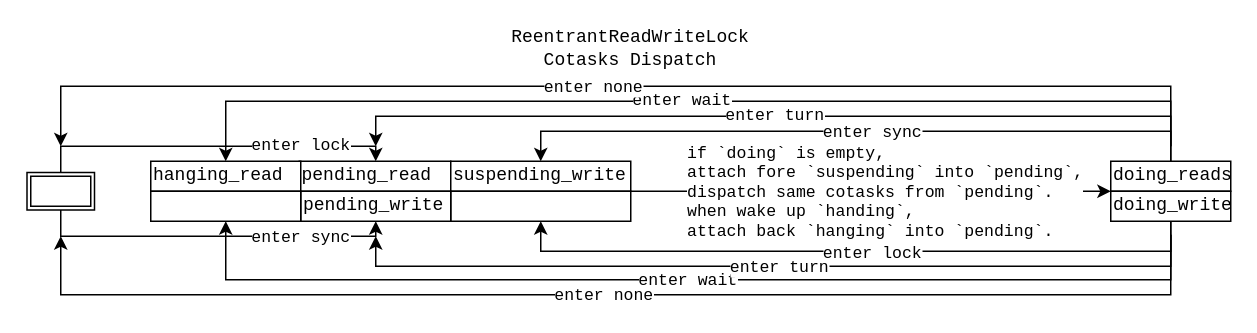
Some shapes in this 1257 by 333 pixel diagram are drawn without their labels. Here are the shapes that lost their labels. From the top down, the centre of each, then its label:
At (60,190): "none".
At (225,205): "hanging_write".
At (540,205): "suspending_read".
